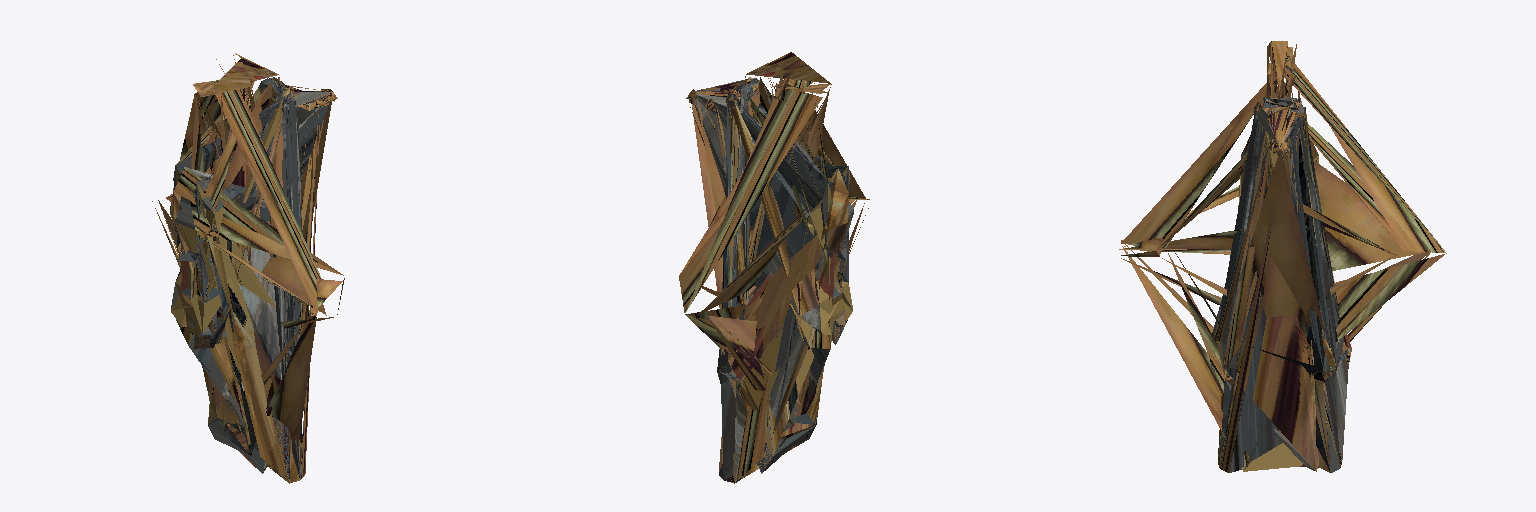
3 renders of one model, left to right at view 1: azimuth 30°, elevation 25°; view 2: azimuth 150°, elevation 25°; view 3: azimuth 270°, elevation 25°, orthographic.
Visible parts, largest first — view 1: jackal_body_standard_5_4, jackal_body_standard_5_3, jackal_body_standard_5_1, jackal_body_standard_5_2, jackal_body_standard_5_0, jackal_body_standard_5_6, jackal_body_standard_5_5; view 2: jackal_body_standard_5_4, jackal_body_standard_5_1, jackal_body_standard_5_3, jackal_body_standard_5_2, jackal_body_standard_5_0; view 3: jackal_body_standard_5_4, jackal_body_standard_5_2, jackal_body_standard_5_1, jackal_body_standard_5_3, jackal_body_standard_5_0, jackal_body_standard_5_5, jackal_body_standard_5_6.
Boxes of the visible parts, box(x1,y1,x2,y2) form: jackal_body_standard_5_4: box(152, 53, 344, 481); jackal_body_standard_5_3: box(170, 83, 299, 483); jackal_body_standard_5_1: box(170, 77, 331, 477); jackal_body_standard_5_2: box(170, 83, 300, 478); jackal_body_standard_5_0: box(208, 79, 301, 480); jackal_body_standard_5_6: box(208, 78, 301, 455); jackal_body_standard_5_5: box(225, 90, 302, 476); jackal_body_standard_5_4: box(679, 52, 869, 482); jackal_body_standard_5_1: box(695, 78, 853, 479); jackal_body_standard_5_3: box(722, 77, 853, 482); jackal_body_standard_5_2: box(718, 78, 847, 483); jackal_body_standard_5_0: box(717, 78, 815, 478); jackal_body_standard_5_4: box(1119, 41, 1446, 472); jackal_body_standard_5_2: box(1212, 102, 1351, 472); jackal_body_standard_5_1: box(1212, 98, 1351, 472); jackal_body_standard_5_3: box(1210, 101, 1341, 472); jackal_body_standard_5_0: box(1216, 98, 1342, 463); jackal_body_standard_5_5: box(1212, 98, 1339, 472); jackal_body_standard_5_6: box(1223, 98, 1302, 381).
Bounding box in the file's own units: 0.2713 × 0.6524 × 0.4794.
5 materials, 5 textured.